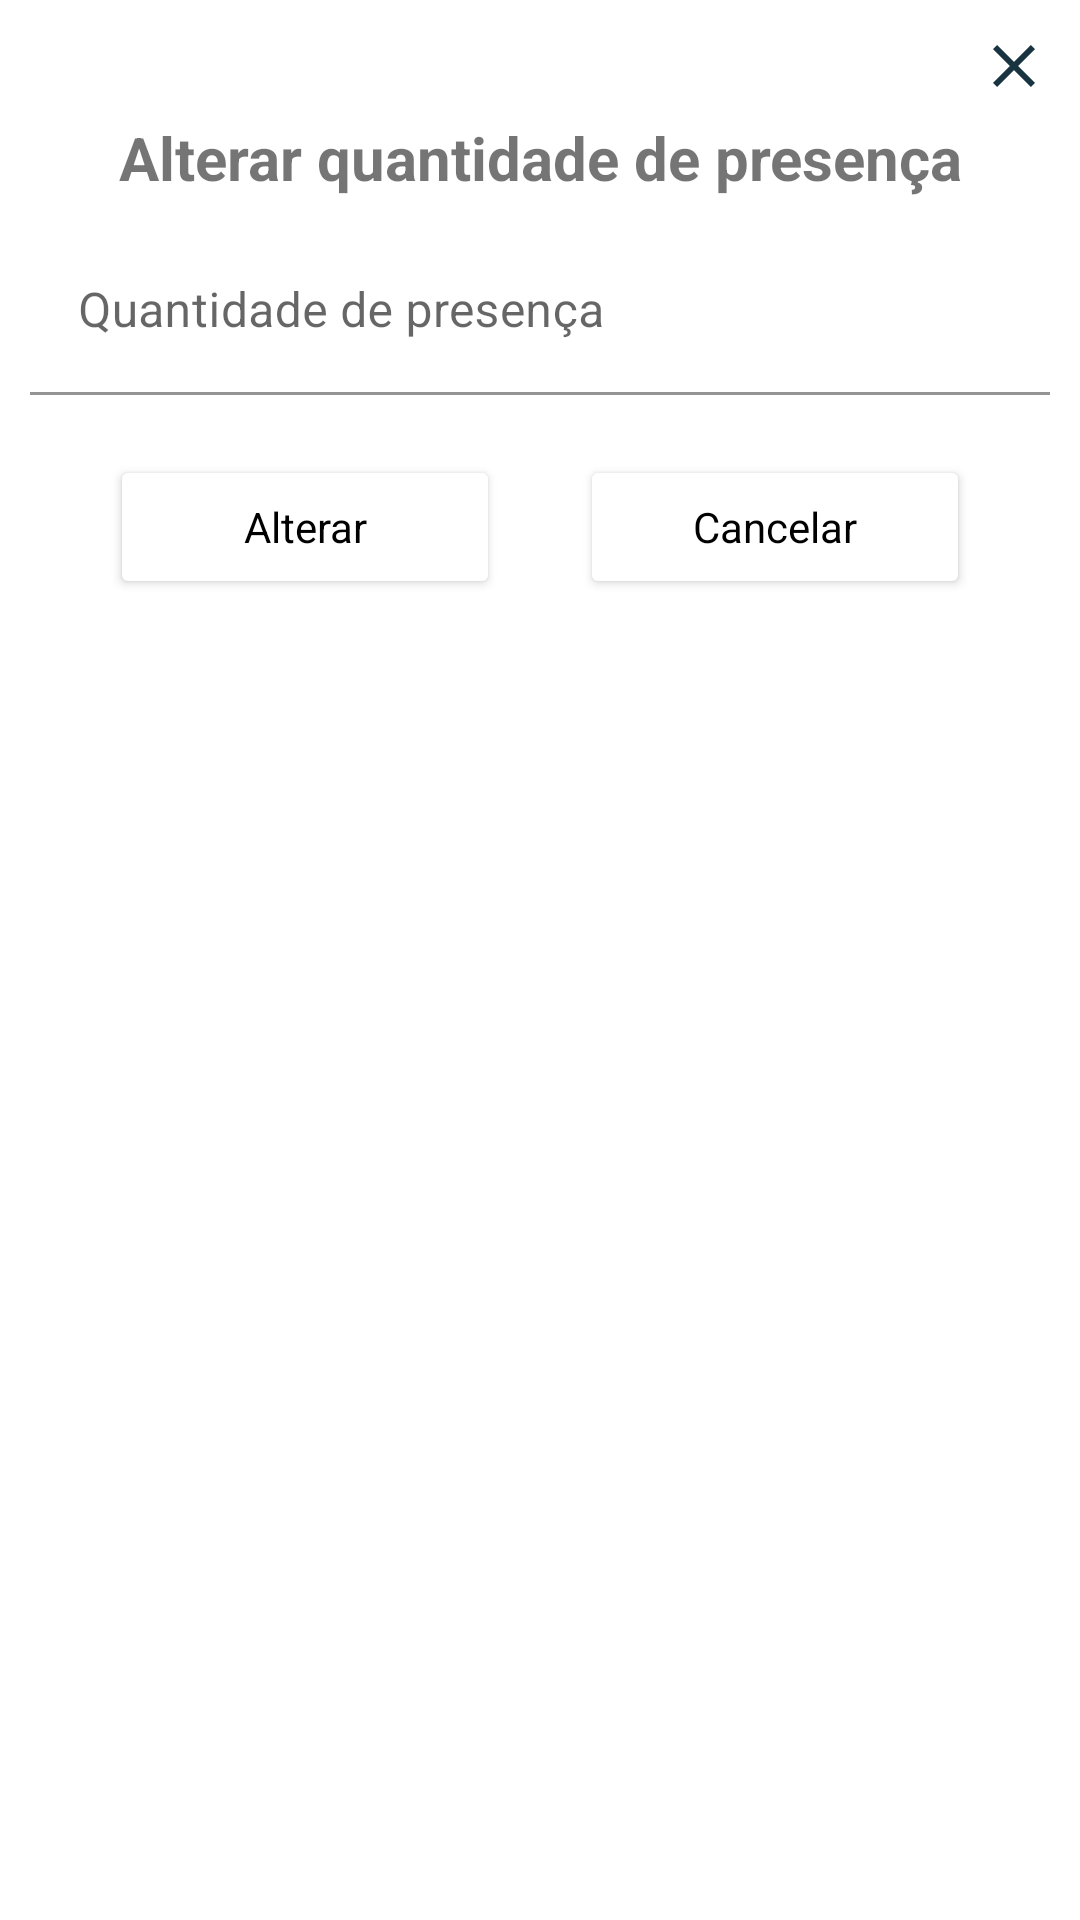

Named icons in this screenshot (1080x1920) and their centers, (x,y):
close: (1014,66)
